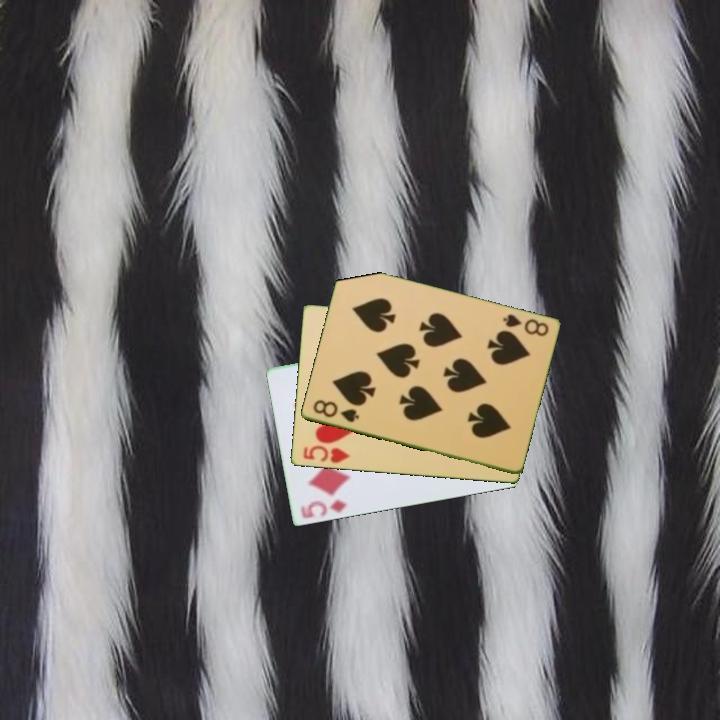5d: (297, 496, 349, 522)
5h: (299, 442, 352, 466)
8s: (309, 396, 362, 426), (499, 311, 551, 340)
